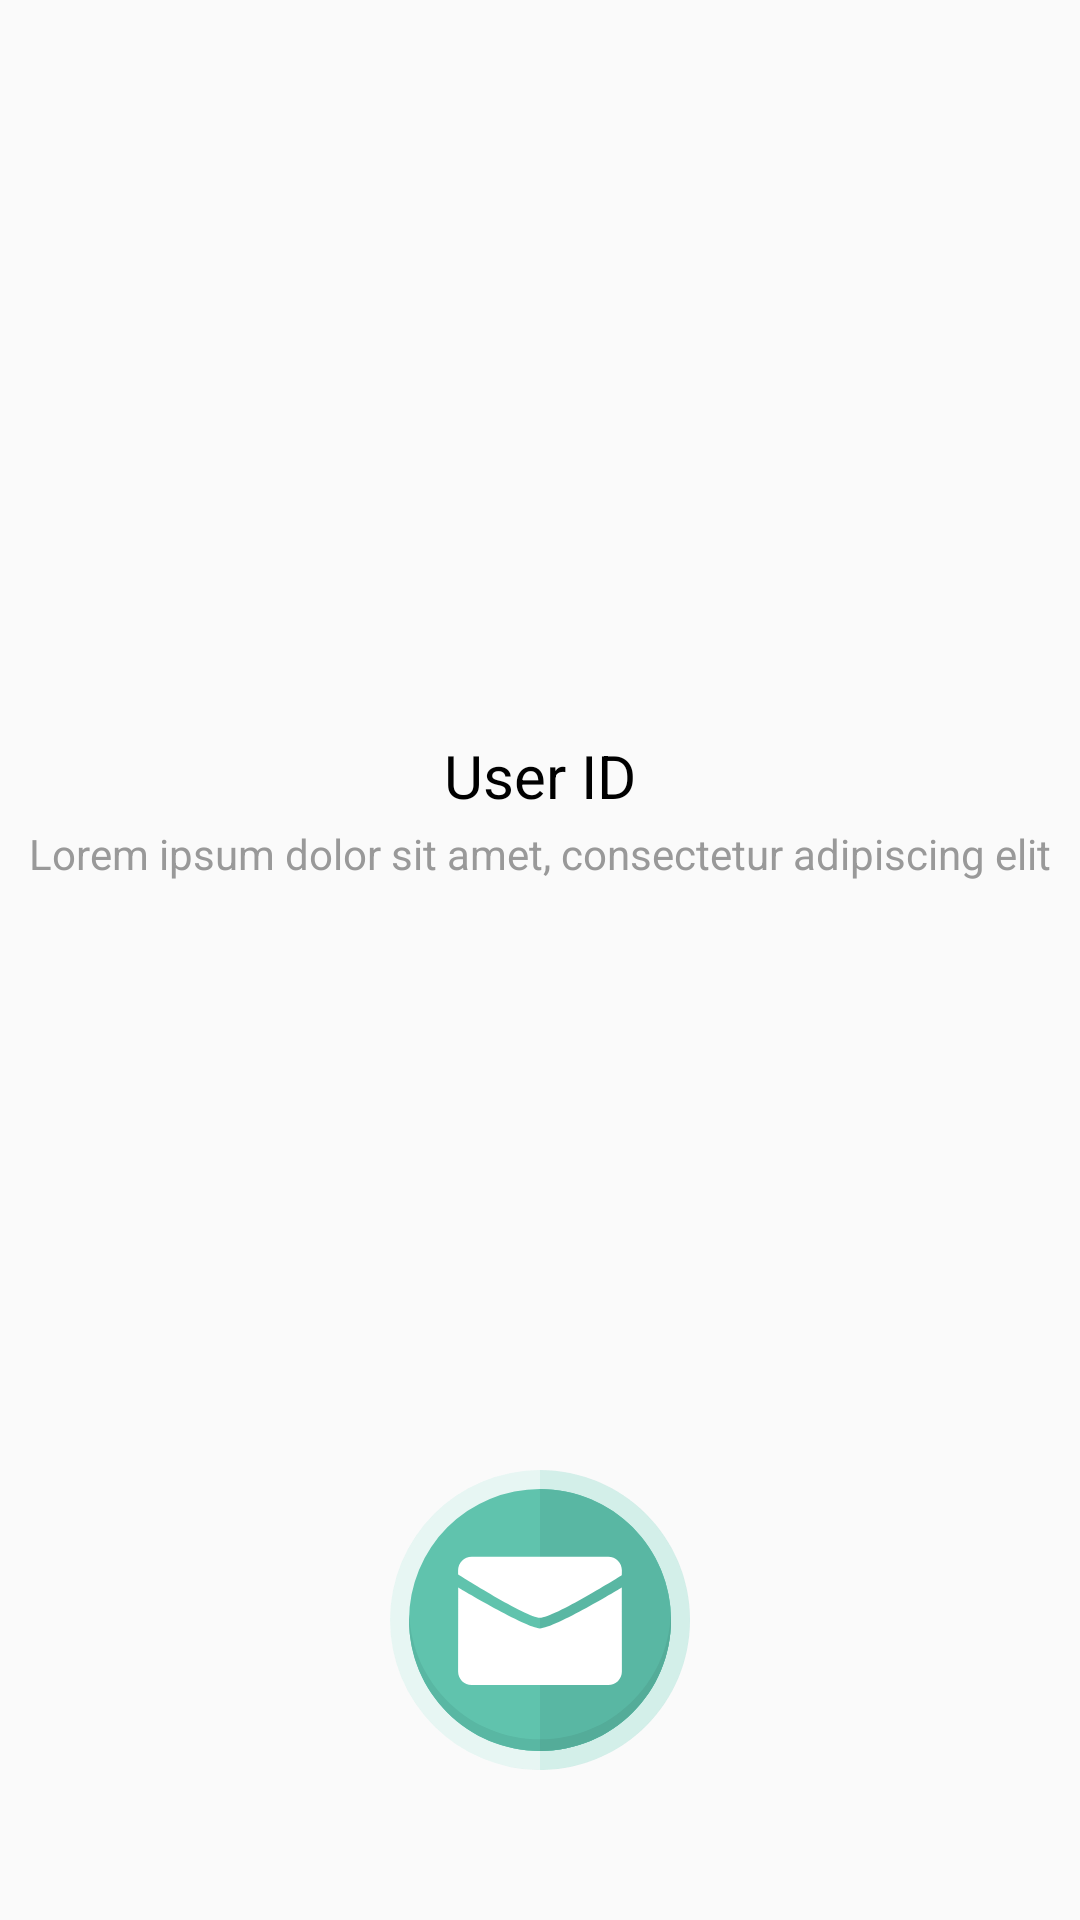

Icon bounding boxes for this 1080w x 1920h phone screenshot, format (x1, y1, x2, y2):
iconfinder email: (409, 1470, 690, 1770)
